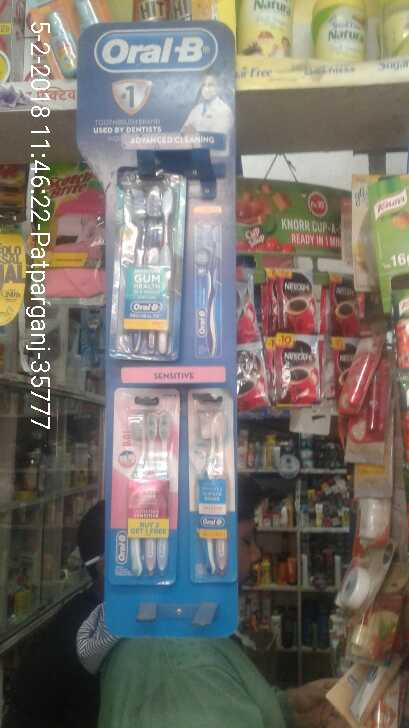oralb: (109, 177, 180, 359), (110, 402, 181, 582), (195, 406, 234, 574)
